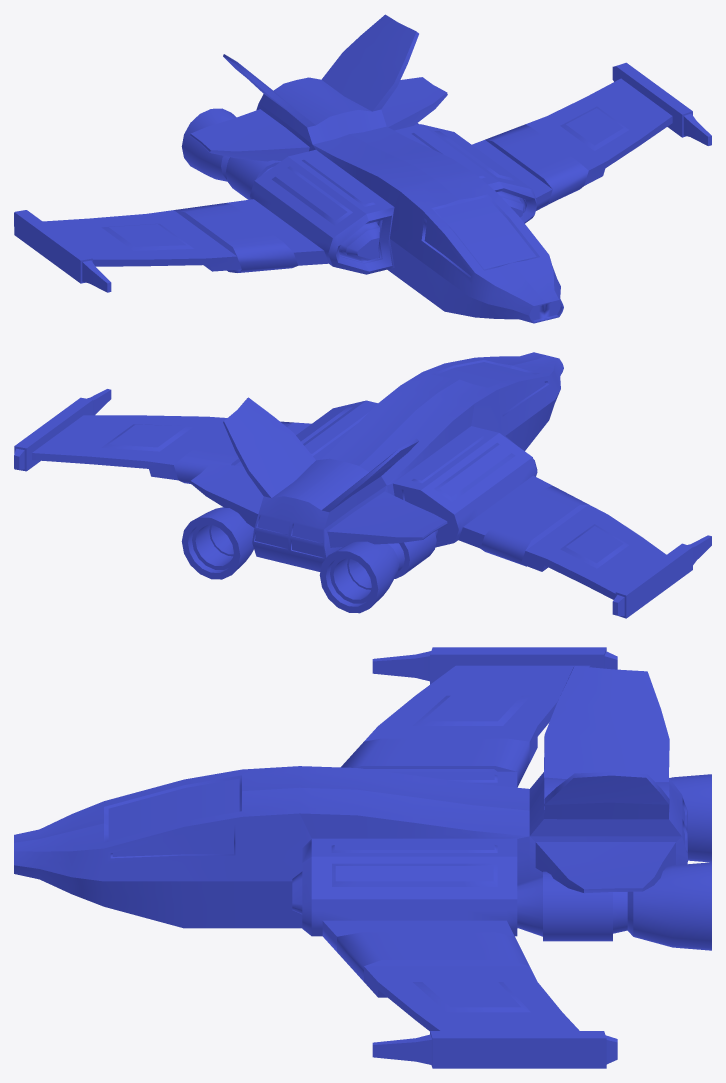
The model's file is Ship02Mesh.fbx.
3 renders of one model, top to bottom at view 1: azimuth 30°, elevation 25°; view 2: azimuth 150°, elevation 25°; view 3: azimuth 270°, elevation 25°, orthographic. The views are drawn at different scales.
Visible parts, largest first — view 1: Cube; view 2: Cube; view 3: Cube.
Part boxes in pixels (bbox=[...]): Cube: bbox=[14, 14, 711, 323]; Cube: bbox=[14, 352, 711, 618]; Cube: bbox=[14, 647, 711, 1068].
Size of the model in its own units: 231 by 51.03 by 174.
